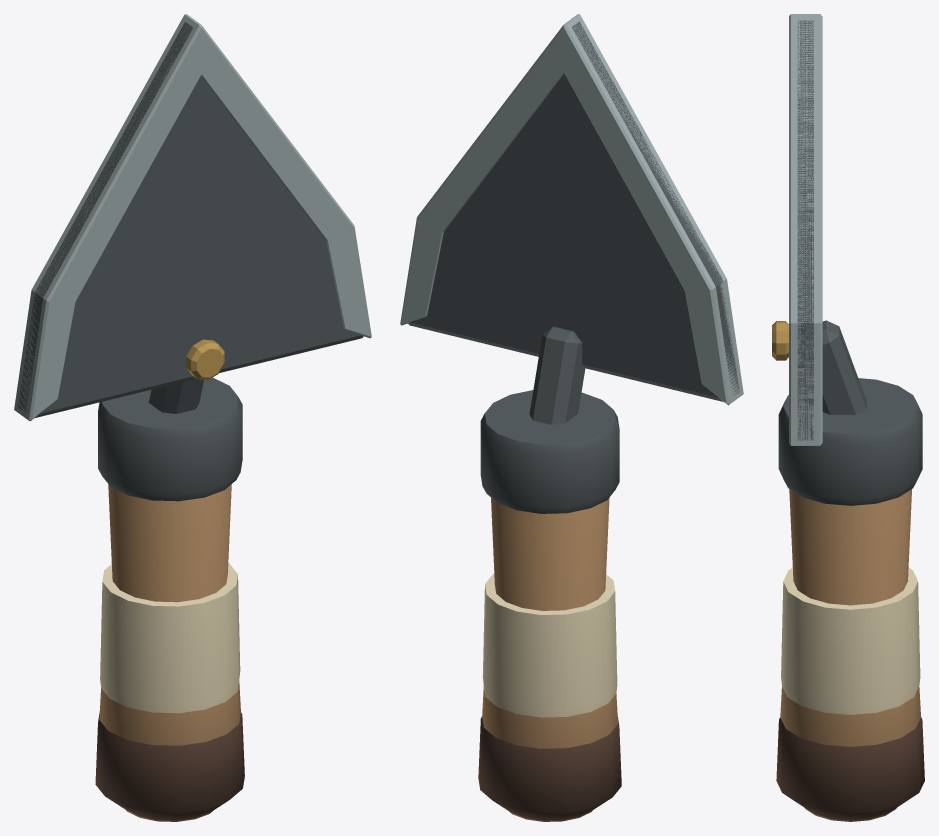
File: tool_trowel.glb
3 views of the same model, side by side, from view 1: azimuth 30°, elevation 25°; view 2: azimuth 150°, elevation 25°; view 3: azimuth 270°, elevation 25° (orthographic). The views are drawn at different scales.
Parts seen in each view (by area): view 1: tool_trowel; view 2: tool_trowel; view 3: tool_trowel.
Part boxes in pixels (left/top/right/bottom): tool_trowel: left=14, top=14, right=371, bottom=821; tool_trowel: left=400, top=14, right=743, bottom=821; tool_trowel: left=772, top=14, right=924, bottom=821.
Size of the model in its own units: 0.1737 by 0.3862 by 0.068.
